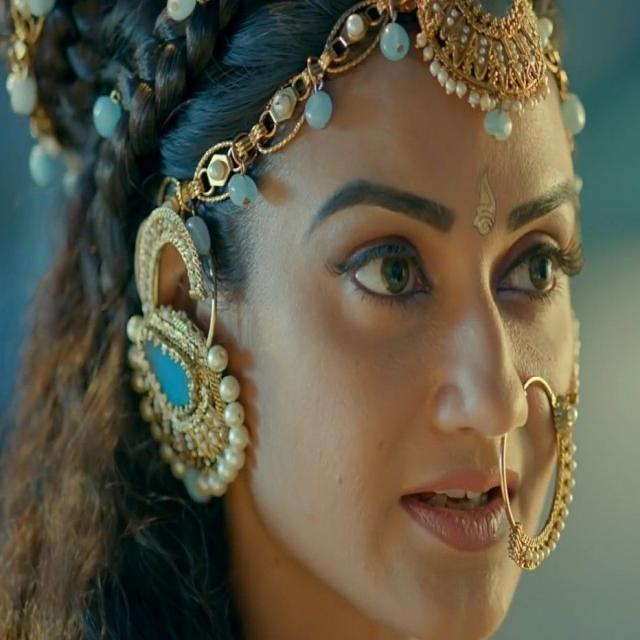Earring: (113, 188, 255, 524)
